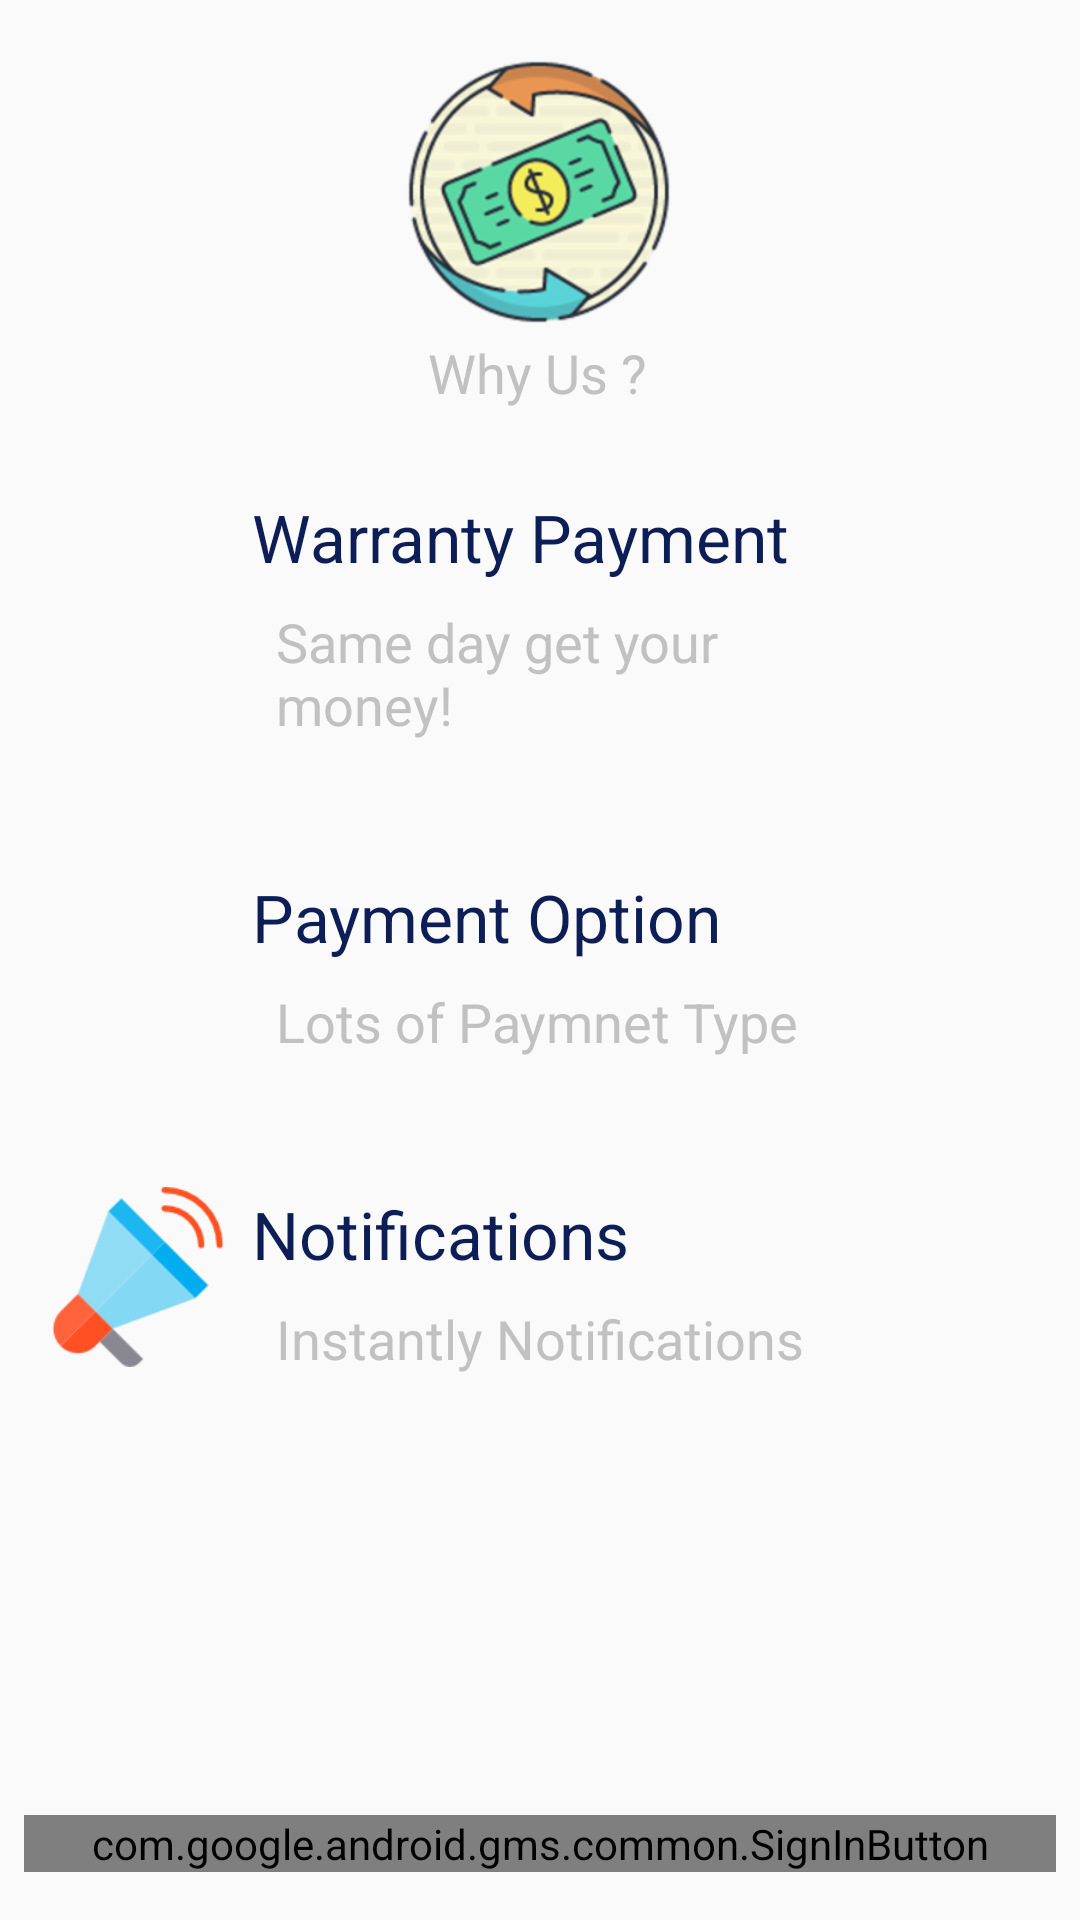

Screen size 1080 × 1920. Icon name, then its box in pixels as (x1, y1, x2, y2):
ads: (53, 1187, 223, 1367)
